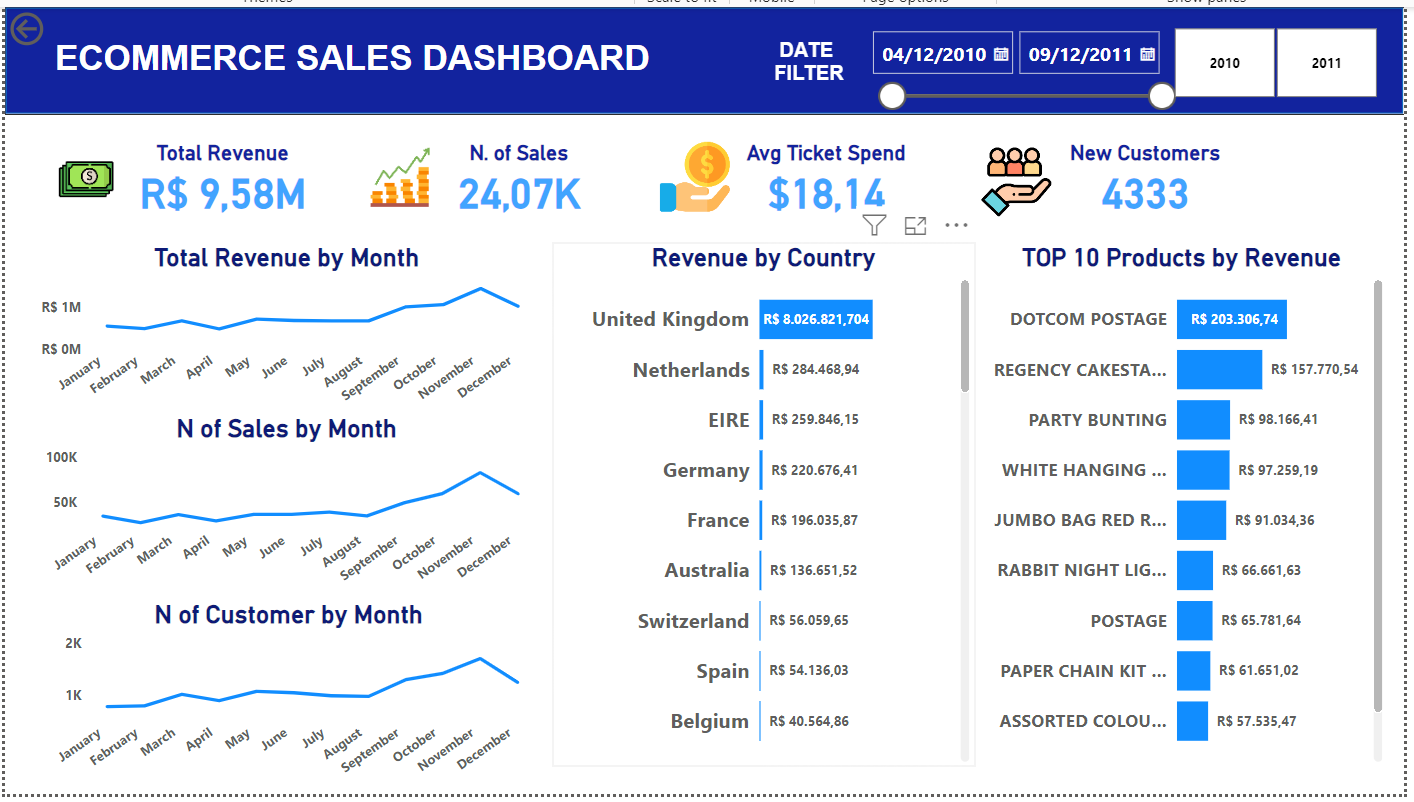

Layout of this report page (visuals, bound fields, positions):
{"tool":"powerbi","page":{"name":"General","canvas":[1280,720],"ordinal":0},"visuals":[{"type":"shape","box":[0,0,1280.4,98.8],"z":0},{"type":"card","title":"Total Revenue","fields":{"Values":["Sum(Online Retail.TotalPrice)"]},"box":[102.9,122.5,192.1,72.7],"z":1000},{"type":"lineChart","title":"Total Revenue by Month","fields":{"Category":["Online Retail.InvoiceDate","Online Retail.InvoiceDate.Variation.Date Hierarchy.Year","Online Retail.InvoiceDate.Variation.Date Hierarchy.Month","Online Retail.InvoiceDate.Variation.Date Hierarchy.Day"],"Y":["Sum(Online Retail.TotalPrice)"]},"box":[27.3,215,460.3,157.5],"z":2000},{"type":"actionButton","box":[0,0,100,40],"z":3000},{"type":"card","title":"Avg Ticket Spend","fields":{"Values":["Online Retail.Average Ticket"]},"box":[639.5,122.5,223.7,72.7],"z":4000},{"type":"card","title":"N. of Sales","fields":{"Values":["Count(Online Retail.InvoiceNo)"]},"box":[366.4,122.5,207.2,72.7],"z":5000},{"type":"textbox","box":[0,15.1,631.4,68.1],"z":6000},{"type":"slicer","fields":{"Values":["Online Retail.InvoiceDate"]},"box":[781.3,12.1,298.3,84.8],"z":7000},{"type":"card","title":"New Customers","fields":{"Values":["Count(Online Retail.CustomerID)"]},"box":[959.3,122.5,167.4,72.7],"z":8000},{"type":"lineChart","title":"N of Sales by Month","fields":{"Category":["Online Retail.InvoiceDate","Online Retail.InvoiceDate.Variation.Date Hierarchy.Year","Online Retail.InvoiceDate.Variation.Date Hierarchy.Month","Online Retail.InvoiceDate.Variation.Date Hierarchy.Day"],"Y":["CountNonNull(Online Retail.InvoiceNo)"]},"box":[27.3,372.5,460.3,169.6],"z":9000},{"type":"clusteredBarChart","title":"TOP 10 Products by Revenue","fields":{"Category":["Online Retail.Description"],"Y":["Sum(Online Retail.TotalPrice)"]},"box":[887.3,215,377,480],"z":10000},{"type":"clusteredBarChart","title":"Revenue by Country","fields":{"Category":["Online Retail.Country"],"Y":["Sum(Online Retail.TotalPrice)"]},"box":[501.2,215,386.1,480],"z":11000},{"type":"lineChart","title":"N of Customer by Month","fields":{"Category":["Online Retail.InvoiceDate","Online Retail.InvoiceDate.Variation.Date Hierarchy.Year","Online Retail.InvoiceDate.Variation.Date Hierarchy.Month","Online Retail.InvoiceDate.Variation.Date Hierarchy.Day"],"Y":["Count(Online Retail.CustomerID)"]},"box":[31.8,542.1,455.8,177.2],"z":12000},{"type":"image","box":[43.9,115.6,60.4,85.1],"z":13000},{"type":"image","box":[322.5,123.9,78.2,64.5],"z":14000},{"type":"image","box":[581.9,118.4,98.8,74.1],"z":15000},{"type":"image","box":[887.9,119.8,74.1,81],"z":16000},{"type":"slicer","fields":{"Values":["Online Retail.InvoiceDate.Variation.Date Hierarchy.Year"]},"box":[1044.8,12.1,234.7,77.2],"z":17000},{"type":"textbox","box":[657.2,22.7,151.4,63.6],"z":18000}]}

Visuals, with their boxes on the page's 1280x720 design canvas (x1, y1, x2, y2). These are canvas units, not pixel positions in the 1414x802 screenshot, which may show the page scaled, cropped or inside an application window:
shape: 0 0 1280 99
"Total Revenue" card: 103 122 295 195
"Total Revenue by Month" lineChart: 27 215 488 372
actionButton: 0 0 100 40
"Avg Ticket Spend" card: 640 122 863 195
"N. of Sales" card: 366 122 574 195
textbox: 0 15 631 83
slicer - Online Retail.InvoiceDate: 781 12 1080 97
"New Customers" card: 959 122 1127 195
"N of Sales by Month" lineChart: 27 372 488 542
"TOP 10 Products by Revenue" clusteredBarChart: 887 215 1264 695
"Revenue by Country" clusteredBarChart: 501 215 887 695
"N of Customer by Month" lineChart: 32 542 488 719
image: 44 116 104 201
image: 322 124 401 188
image: 582 118 681 192
image: 888 120 962 201
slicer - Online Retail.InvoiceDate.Variation.Date Hierarchy.Year: 1045 12 1280 89
textbox: 657 23 809 86
